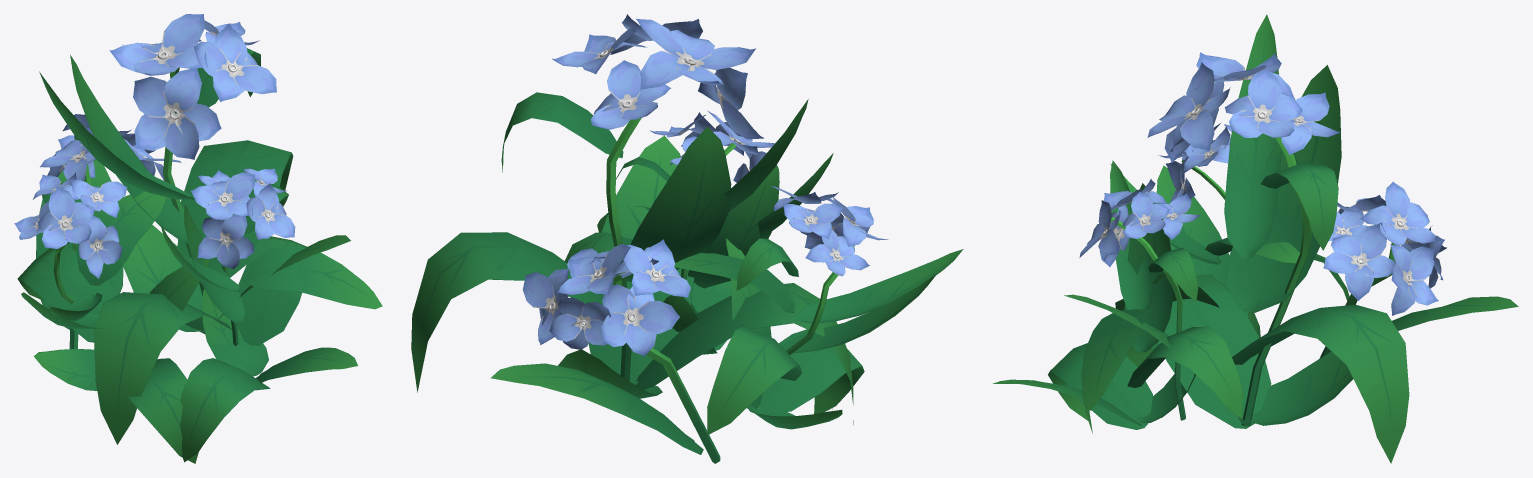
File: SM_Myosotis5.fbx
3 views of the same model, side by side, from view 1: azimuth 30°, elevation 25°; view 2: azimuth 150°, elevation 25°; view 3: azimuth 270°, elevation 25° (orthographic). The views are drawn at different scales.
Parts seen in each view (by area): view 1: Myosotis_Feuille_051; view 2: Myosotis_Feuille_051; view 3: Myosotis_Feuille_051.
Part boxes in pixels (bbox=[...]): Myosotis_Feuille_051: bbox=[14, 14, 382, 463]; Myosotis_Feuille_051: bbox=[411, 14, 963, 463]; Myosotis_Feuille_051: bbox=[993, 14, 1518, 463].
Size of the model in its own units: 47.07 by 55.66 by 47.5.
Materials: 1 (1 with a texture image).
